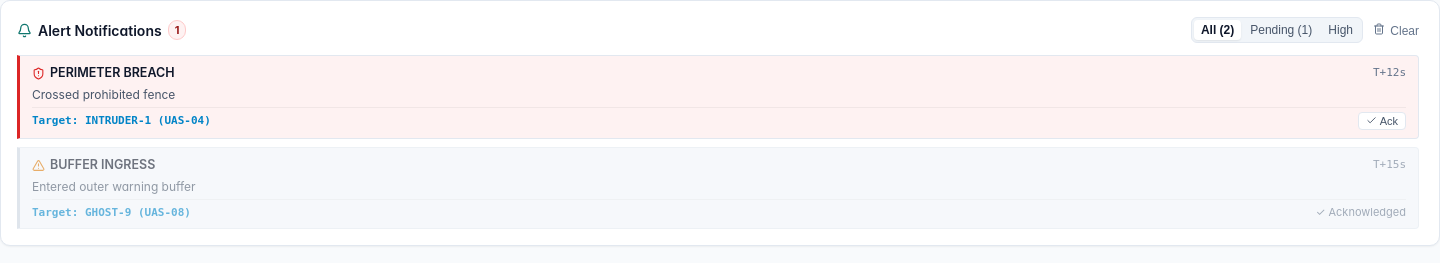
AlertFeed › filters pending unacknowledged alerts when clicked
Click the button "Pending (1)": (1281, 30) [1243,20,1319,40]
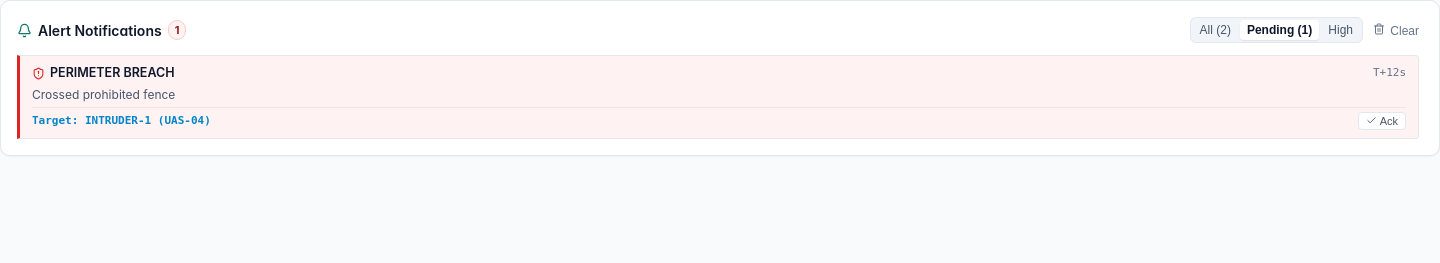
Expected: the text "PERIMETER BREACH" is shown, [50,64,175,83]
Expected: the text "BUFFER INGRESS" is gone
